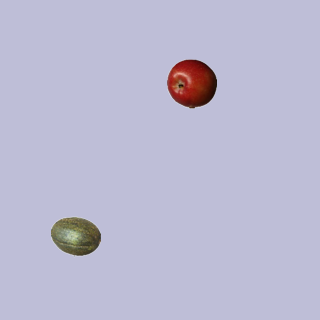Apple Braeburn: (166, 58, 216, 108)
Melon Piel de Sapo: (50, 211, 100, 261)
